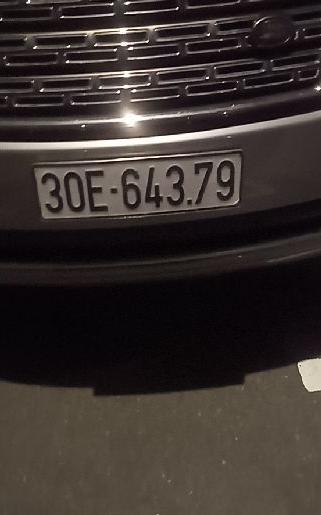Plate-iWeP: (36, 156, 244, 218)
